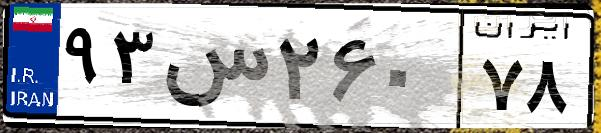0: (385, 28, 445, 110)
2: (270, 28, 330, 110)
3: (110, 28, 158, 98)
6: (330, 28, 385, 110)
7: (475, 38, 525, 113)
8: (525, 38, 570, 115)
9: (57, 26, 110, 100)
س: (158, 20, 270, 120)
